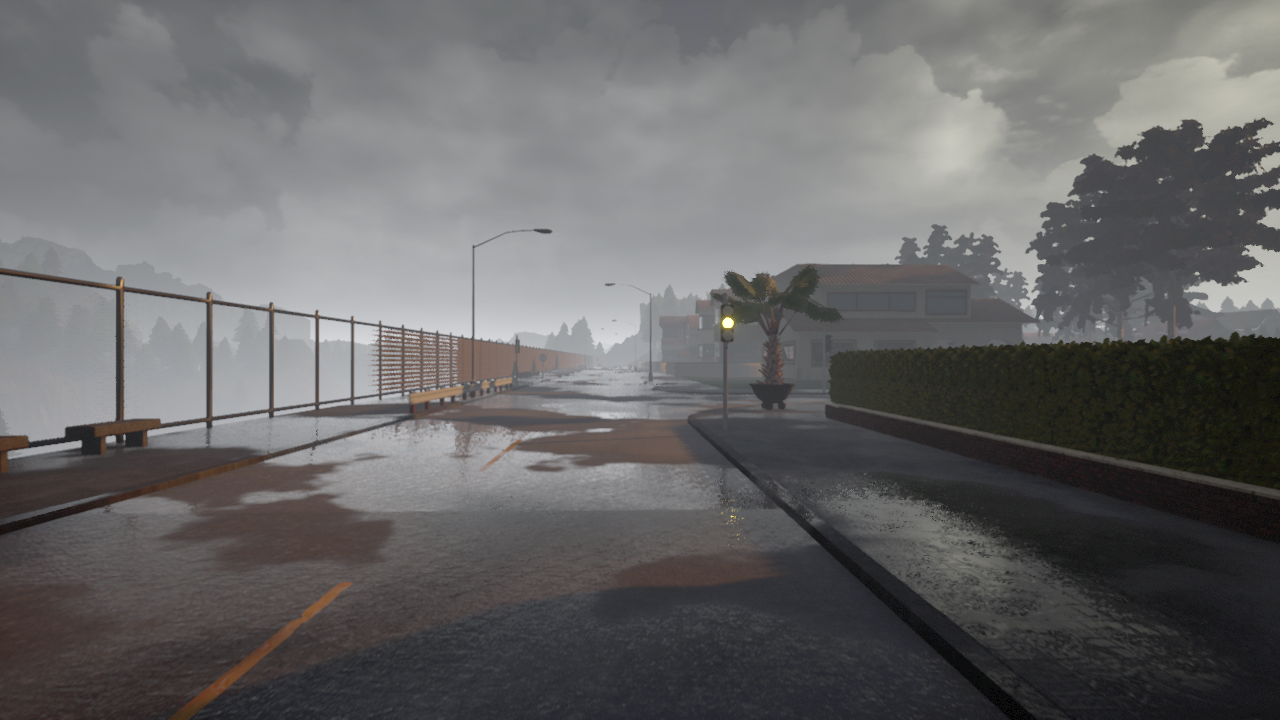yellow: (719, 303, 736, 342)
